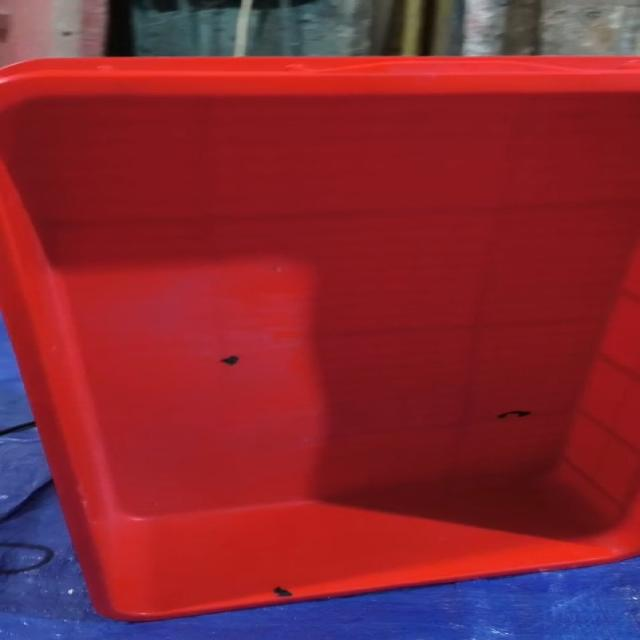red plastic box: (0, 57, 640, 621)
